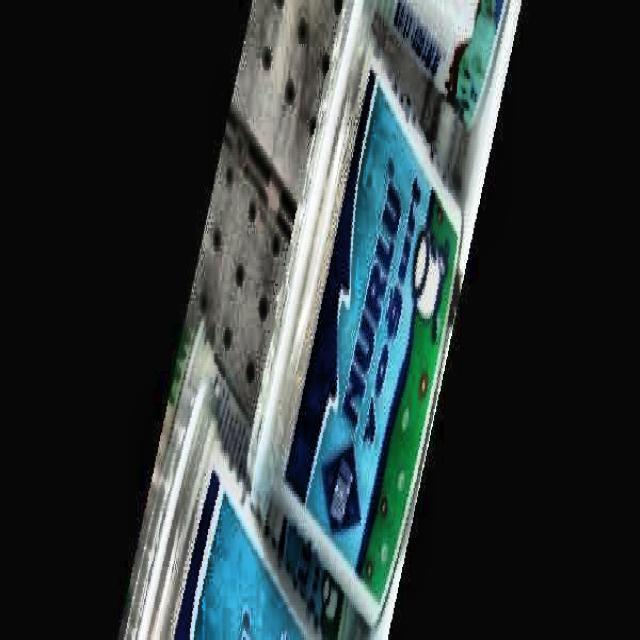plastic: (249, 3, 461, 625)
